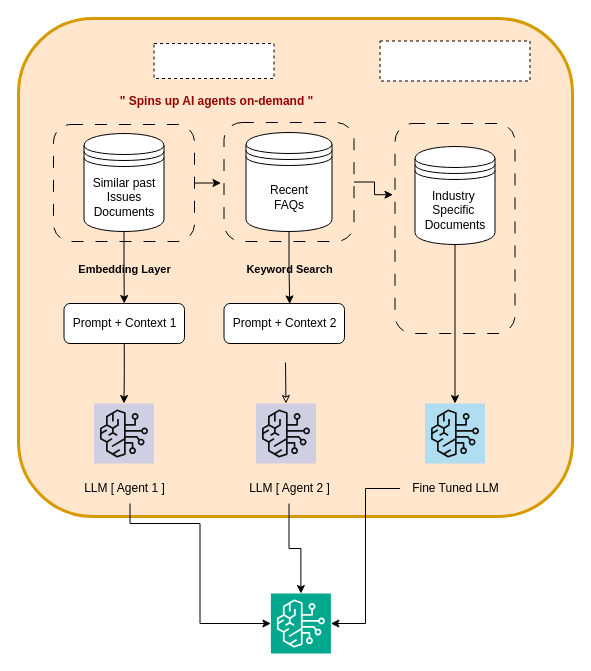
The diagram is 591 pixels wide and 671 high, and some of its shapes have lost their labels. Each missing label, with the box of its shape:
Fine Tuning LLMs: (379, 40, 530, 81)
Retriever: (153, 42, 274, 78)
